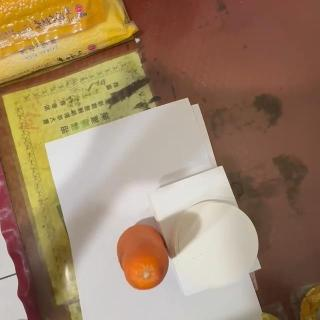carrot: (115, 224, 168, 292)
